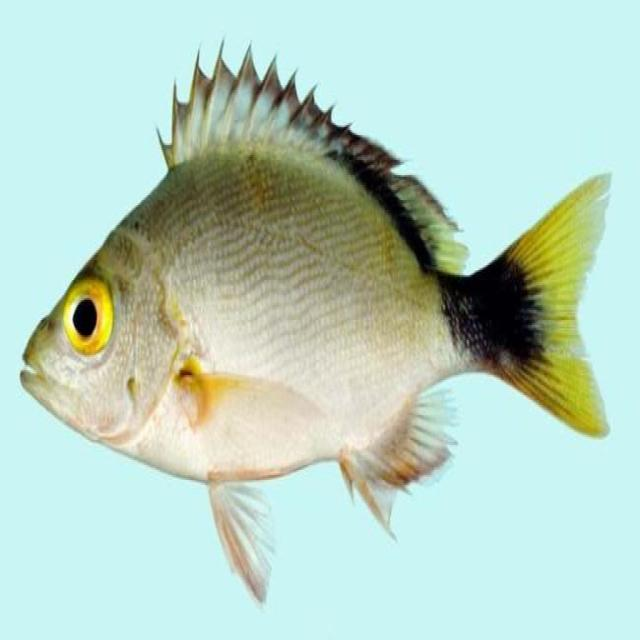ikan: (19, 35, 613, 605)
